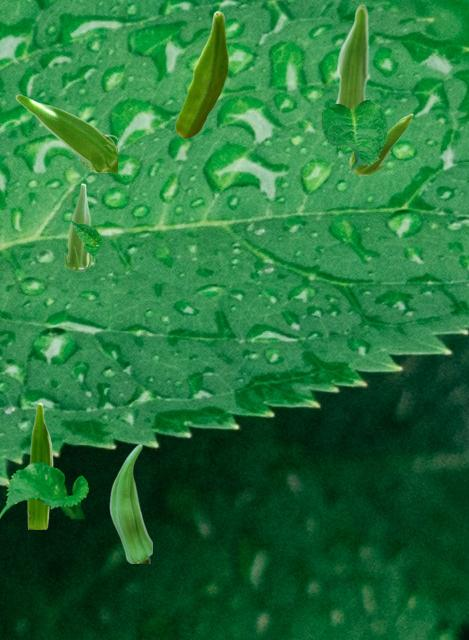okra: (15, 94, 116, 171), (175, 11, 227, 137), (334, 3, 369, 153), (109, 443, 151, 562), (349, 113, 412, 174), (333, 6, 368, 107), (27, 402, 52, 528), (64, 183, 91, 270)
